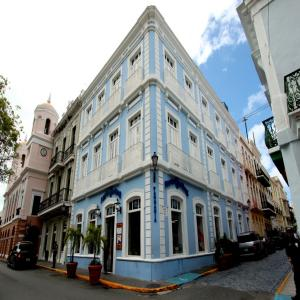Vehicle-registration-plate: (27, 258, 31, 265)
